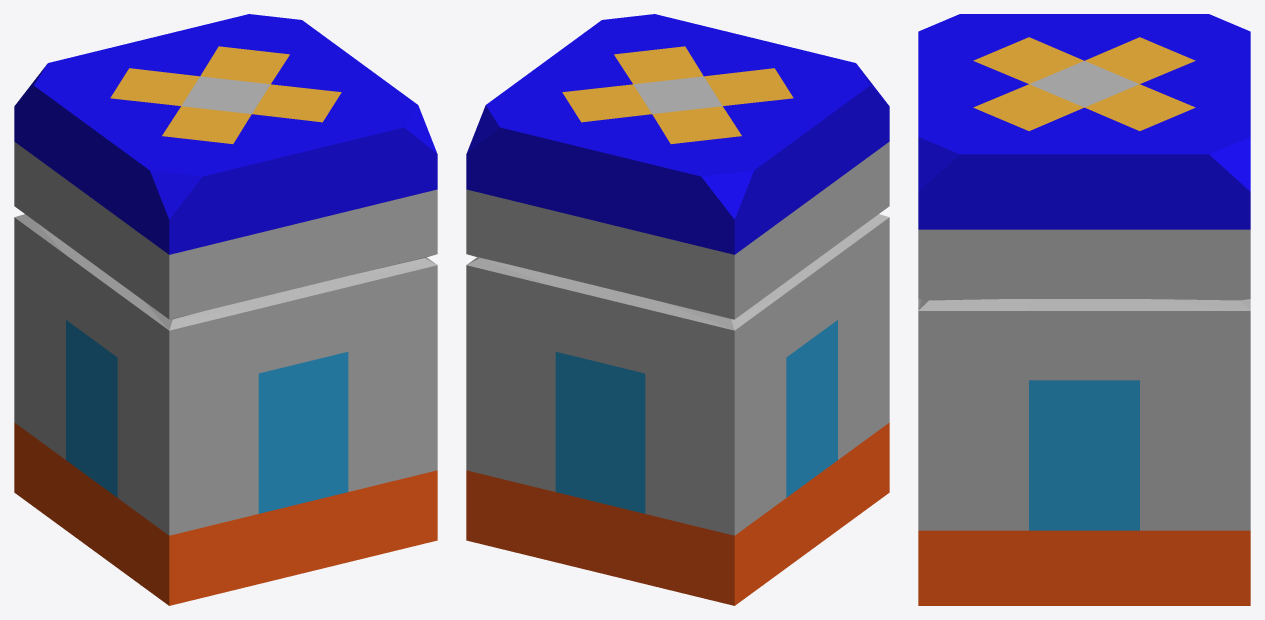
3 views of the same model, side by side, from view 1: azimuth 30°, elevation 25°; view 2: azimuth 150°, elevation 25°; view 3: azimuth 270°, elevation 25° (orthographic). The views are drawn at different scales.
Visible parts, largest first — view 1: Box001; view 2: Box001; view 3: Box001.
Boxes of the visible parts, box(x1,y1,x2,y2) form: Box001: box(14, 14, 437, 605); Box001: box(466, 14, 889, 605); Box001: box(918, 14, 1250, 605).
Bounding box in the file's own units: 40 × 60 × 40.
